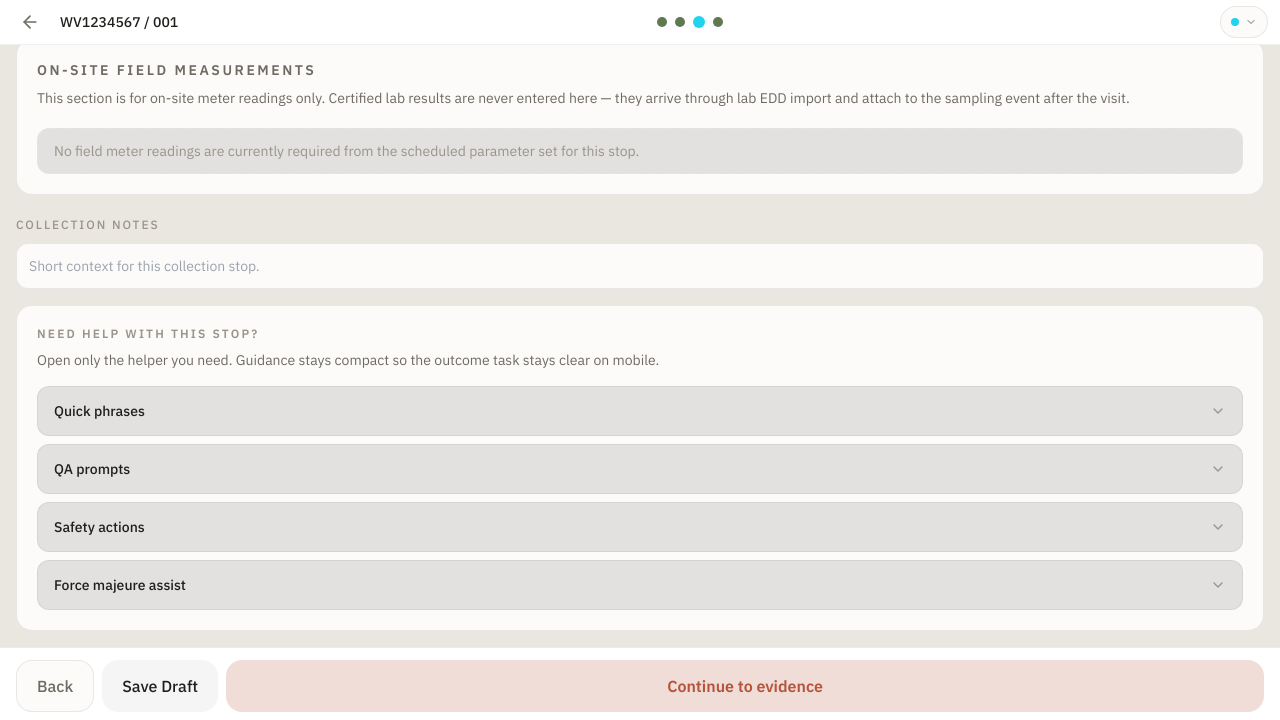
Test case: FieldVisitPage wizard › keeps only one outcome helper section expanded at a time
(page scrolled)
Check: the navigation bar named "Field visit wizard progress" is shown, box top-left (657, 16), bottom-right (741, 28)
Click the button "QA prompts". click: (92, 469)
box: top-left (38, 445), bottom-right (1242, 493)
(page scrolled)
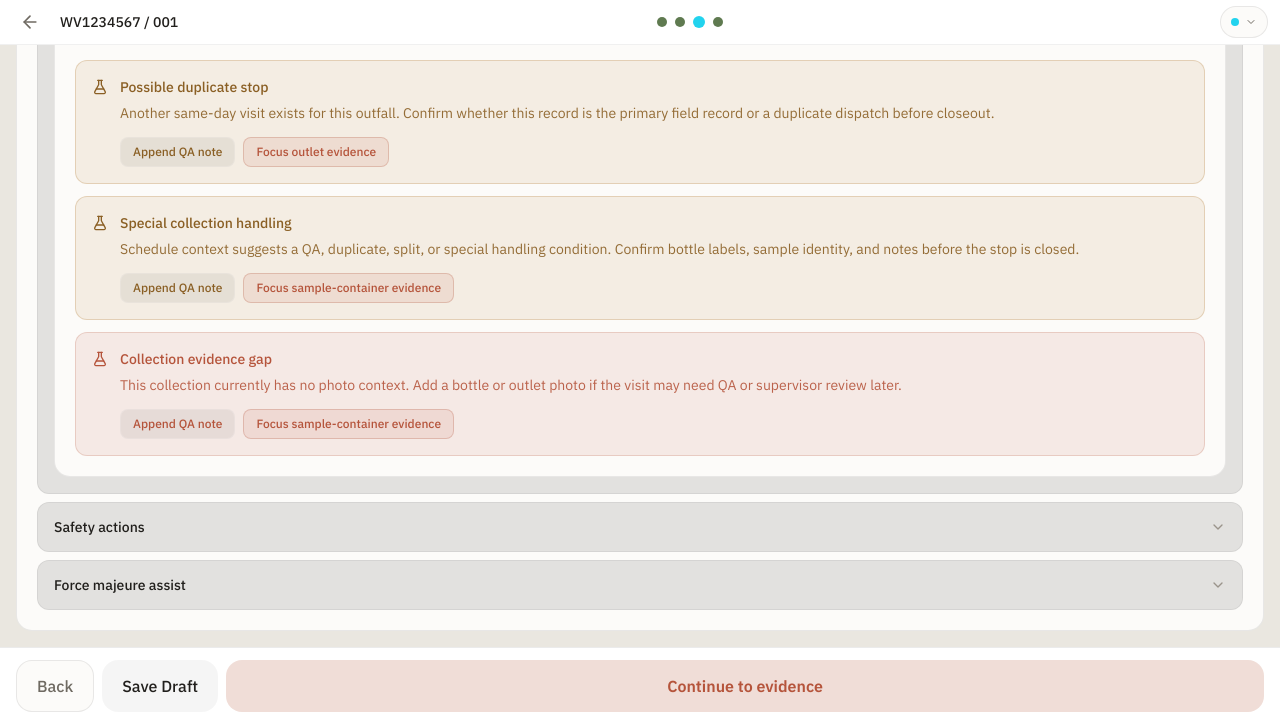
Check: the text "Possible duplicate stop" is shown, box top-left (120, 78), bottom-right (268, 96)
Click the button "Safety actions". click: (99, 527)
box: top-left (38, 503), bottom-right (1242, 551)
(page scrolled)
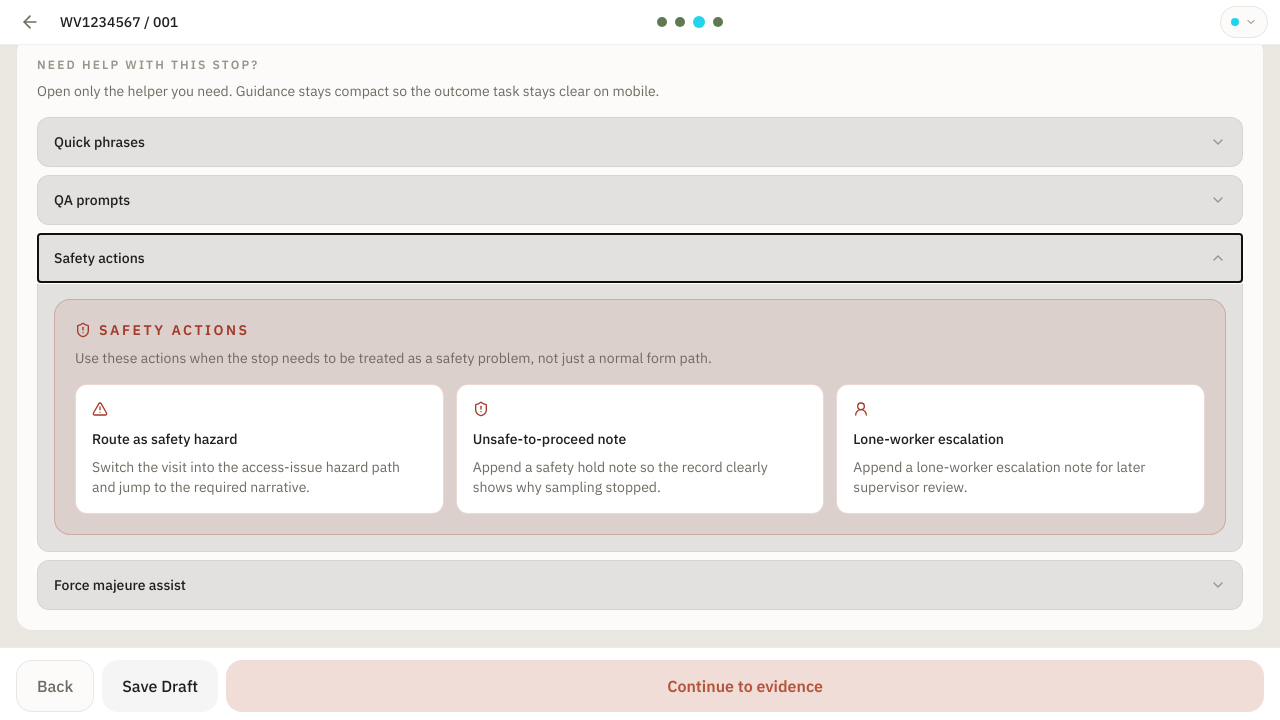
Check: the button "Safety actions" is expanded, box top-left (38, 234), bottom-right (1242, 282)
Check: the button "QA prompts" is collapsed, box top-left (38, 176), bottom-right (1242, 224)
Check: the text "Possible duplicate stop" is gone
